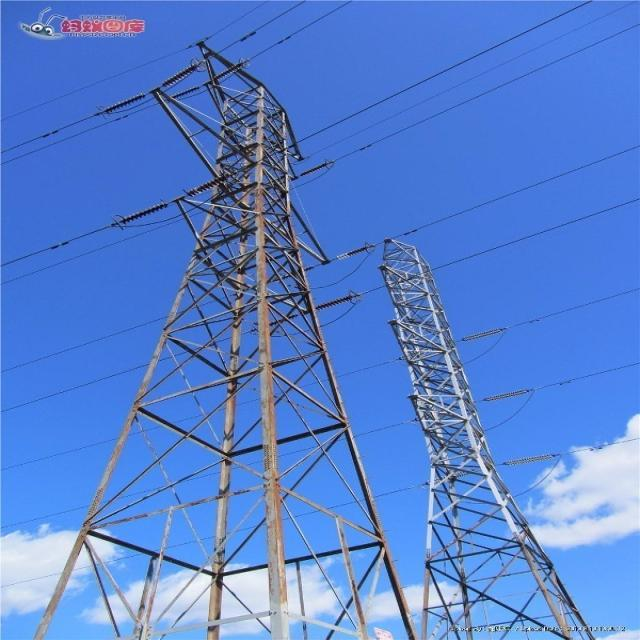non-critical vegetation: (116, 36, 358, 571), (360, 231, 566, 571)
